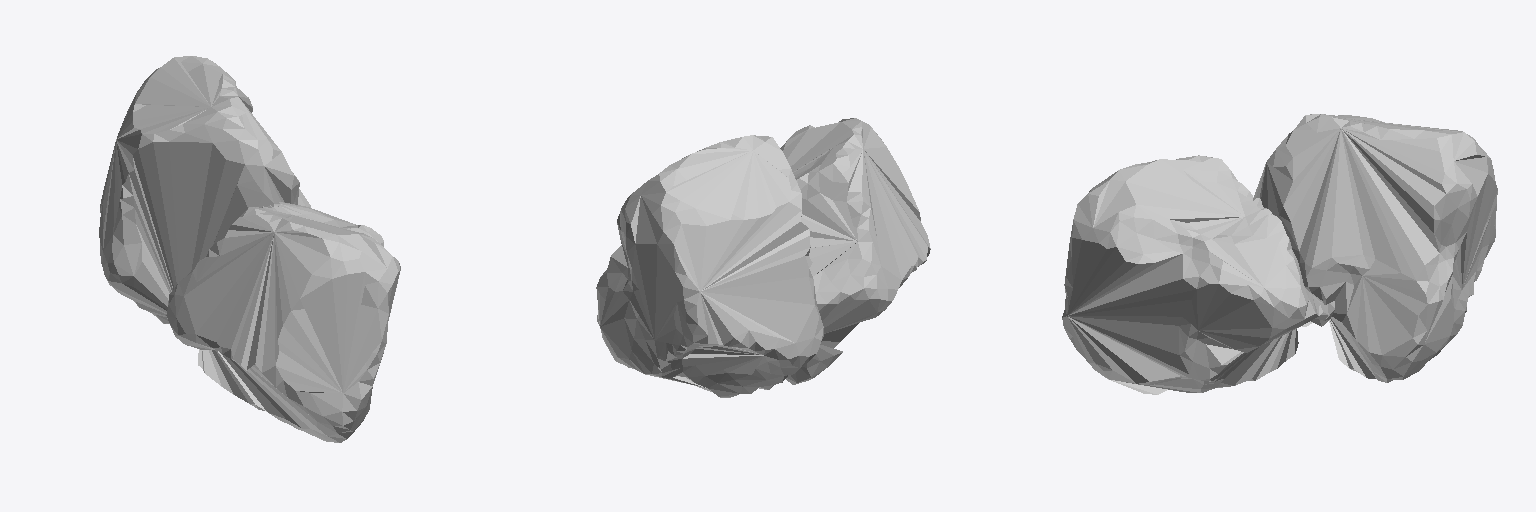
Rendered from rocks.obj.
The picture shows the model from 3 angles: view 1: azimuth 30°, elevation 25°; view 2: azimuth 150°, elevation 25°; view 3: azimuth 270°, elevation 25°; orthographic projection.
Visible parts, largest first — view 1: rock2, rock; view 2: rock, rock2; view 3: rock2, rock.
Boxes of the visible parts, <box> form: rock2: <box>166,202,400,442</box>; rock: <box>99,56,310,323</box>; rock: <box>596,135,823,397</box>; rock2: <box>780,118,930,384</box>; rock2: <box>1062,155,1334,394</box>; rock: <box>1253,114,1497,382</box>.
Size of the model in its own units: 1.86 by 2.4 by 3.43.